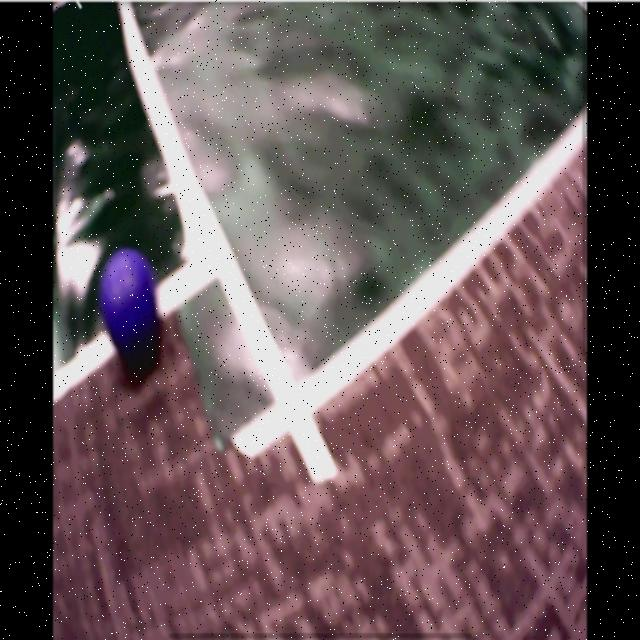ball: (102, 252, 158, 345)
